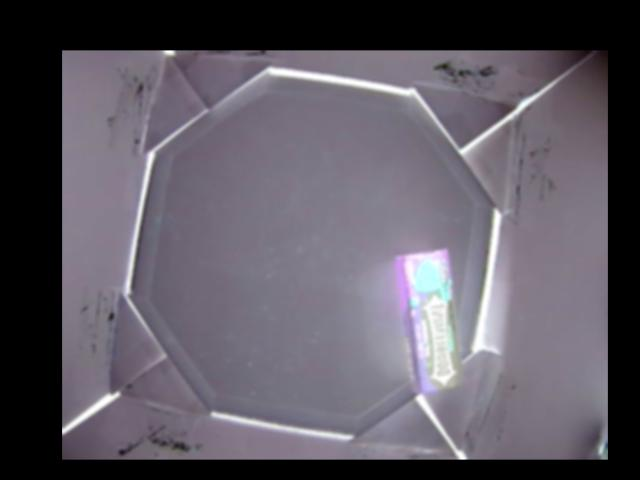Bottle: (397, 246, 462, 398)
